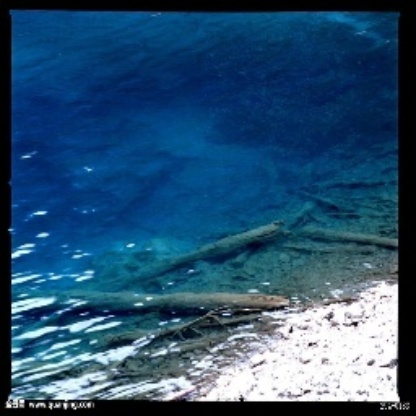branch: (40, 283, 292, 313)
